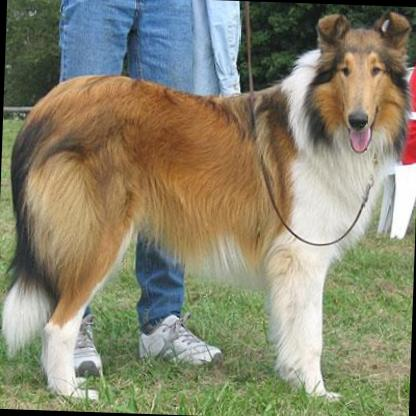collie: (0, 0, 412, 408)
